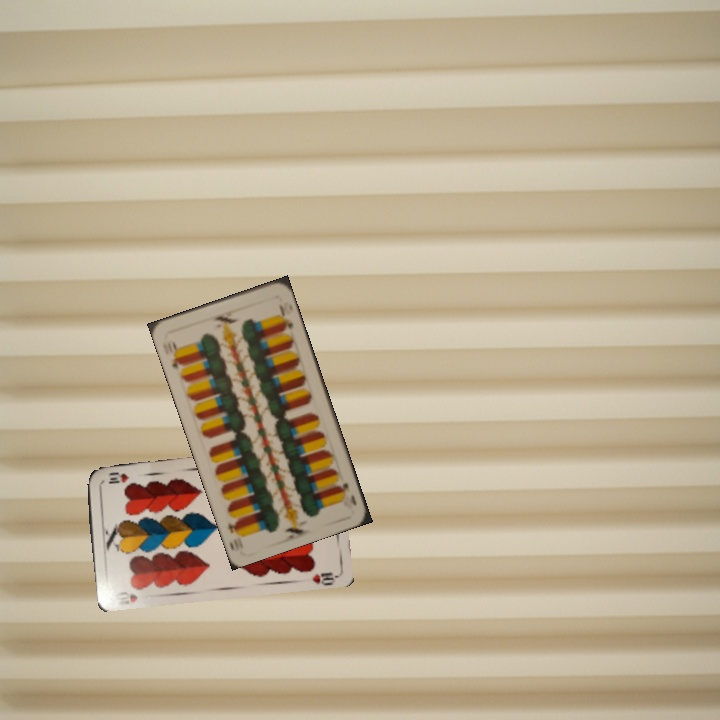E10: (334, 479, 359, 508), (168, 337, 186, 372)
H10: (111, 588, 140, 607)
